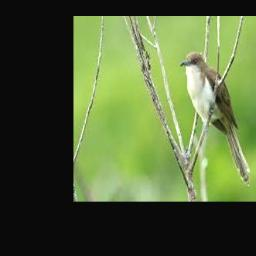Cuckoo: (180, 52, 251, 187)
